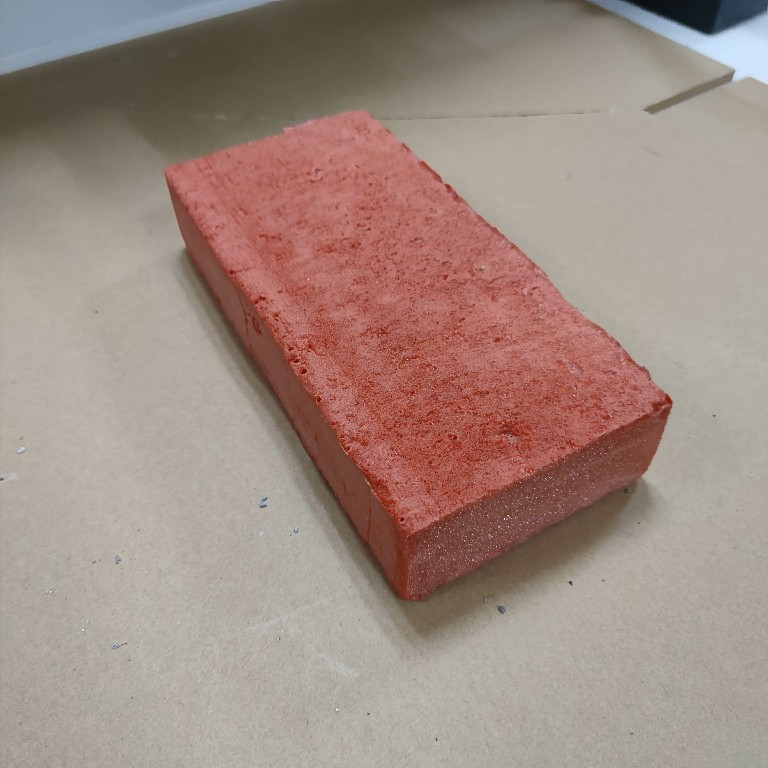brick: (160, 103, 677, 607)
